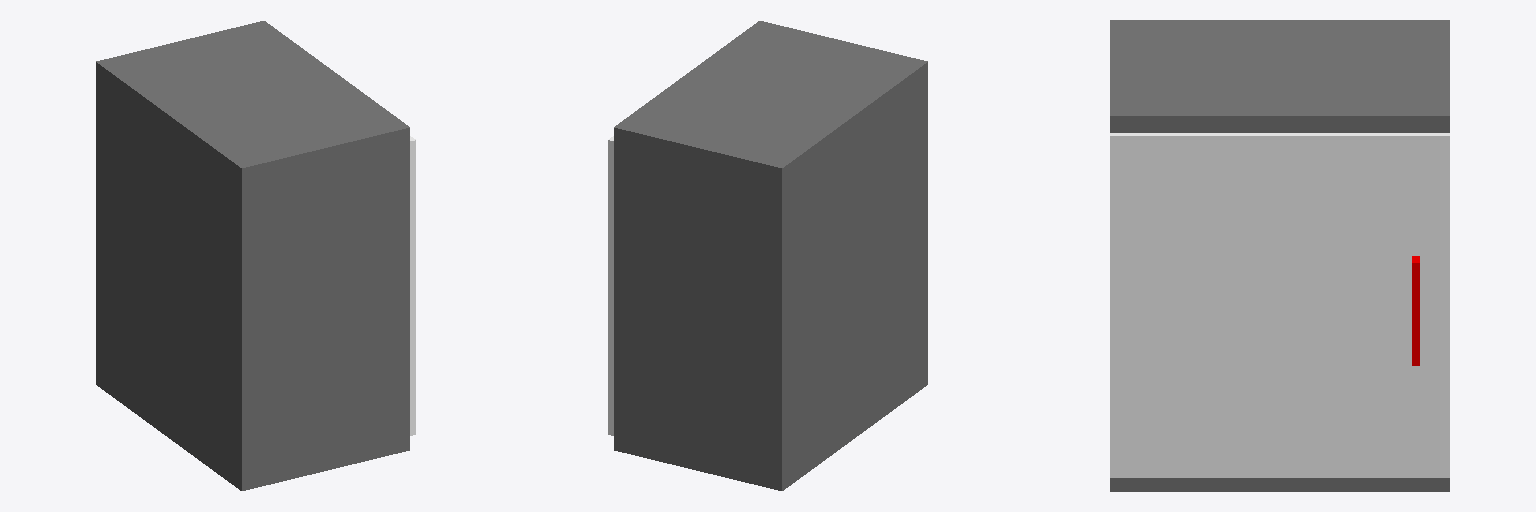
URDF robot description (fridge_bottom):
<?xml version="1.0"?>
<robot name="fridge_bottom">
  <link name="cabinet">
    <visual>
      <geometry><box size="0.2 0.3 0.366"/></geometry>
      <material name="gray"><color rgba="0.5 0.5 0.5 1"/></material>
      <origin xyz="0 0 0.183"/>
    </visual>
    <collision>
      <geometry><box size="0.2 0.3 0.366"/></geometry>
      <origin xyz="0 0 0.183"/>
    </collision>
    <inertial>
      <mass value="3.0"/><inertia ixx="0.1" ixy="0" ixz="0" iyy="0.1" iyz="0" izz="0.1"/>
    </inertial>
  </link>

  <joint name="fridge_hinge" type="revolute">
    <axis xyz="0 0 1"/>
    <limit effort="100.0" lower="-1.57" upper="0." velocity="40"/>
    <parent link="cabinet"/>
    <child link="fridge_door"/>
    <origin xyz="0.1 -0.15 0.016"/>
  </joint>

  <link name="fridge_door">
    <visual>
      <geometry><box size="0.007 0.3 0.334"/></geometry>
      <material name="white"><color rgba="1 1 1 1"/></material>
      <origin xyz="0.0035 0.15 0.167"/>
    </visual>
    <collision>
      <geometry><box size="0.007 0.3 0.334"/></geometry>
      <origin xyz="0.0035 0.15 0.167"/>
    </collision>
  </link>

  <joint name="handle_joint" type="fixed">
    <parent link="fridge_door"/>
    <child link="door_handle"/>
    <origin xyz="0.015 0.27 0.167"/>
  </joint>

  <link name="door_handle">
    <contact>
       <lateral_friction value="2.0"/>
       <spinning_friction value="0.01"/>
    </contact>
    <visual>
      <geometry><box size="0.015 0.007 0.1"/></geometry>
      <material name="red"><color rgba="1 0 0 1"/></material>
    </visual>
    <collision><geometry><box size="0.015 0.007 0.1"/></geometry></collision>
  </link>
</robot>

--- What the picture shows (computed from the rendered views, not written in the file) ---
3 views of the same robot in one strip: view 1: azimuth 30°, elevation 25°; view 2: azimuth 150°, elevation 25°; view 3: azimuth 270°, elevation 25° (orthographic).
Robot: fridge_bottom — 3 links, 2 joints (1 revolute, 1 fixed); root link cabinet; default pose: every joint at zero.
Links seen in each view (by area): view 1: cabinet, fridge_door; view 2: cabinet, fridge_door; view 3: fridge_door, cabinet, door_handle.
Boxes of the visible links, <box> form: cabinet: <box>96,21,409,490</box>; fridge_door: <box>410,136,415,435</box>; cabinet: <box>614,21,927,490</box>; fridge_door: <box>608,136,613,435</box>; fridge_door: <box>1110,133,1449,477</box>; cabinet: <box>1110,20,1449,491</box>; door_handle: <box>1412,256,1419,365</box>.
Size in the robot's own frame: 0.2225 by 0.3 by 0.366 metres.
Geometry: primitives only (box / cylinder / sphere), no mesh files.